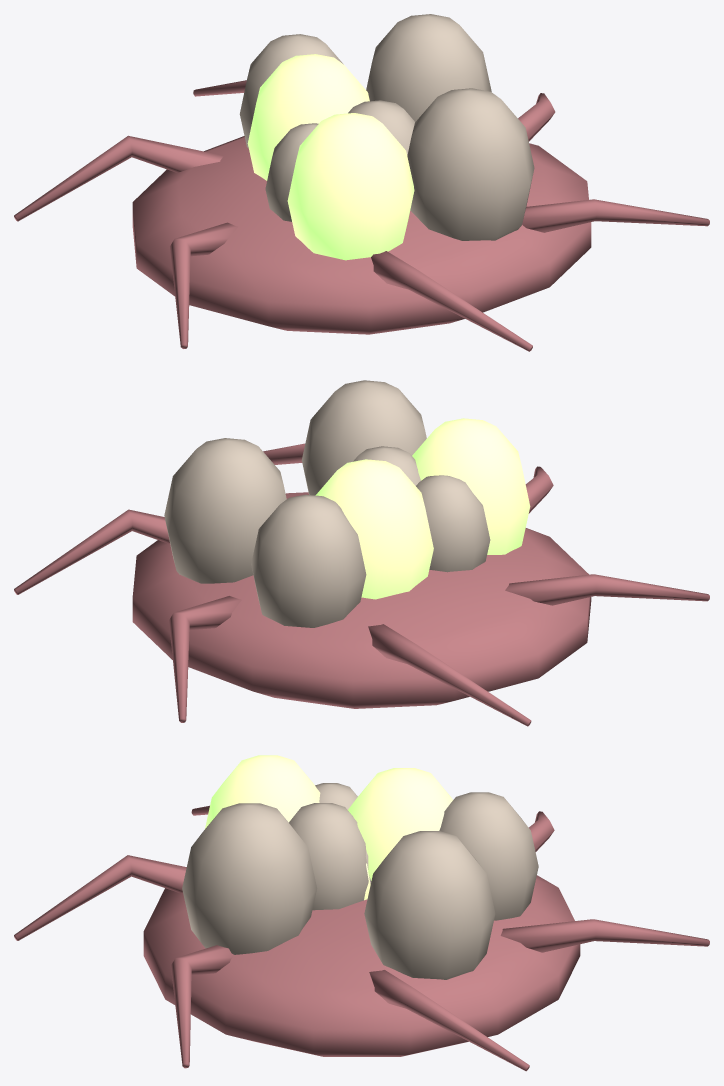
File: nest.glb
3 views of the same model, one above another, from view 1: azimuth 30°, elevation 25°; view 2: azimuth 150°, elevation 25°; view 3: azimuth 270°, elevation 25° (orthographic).
Parts seen in each view (by area): view 1: nest; view 2: nest; view 3: nest.
Boxes of the visible parts, x1,y1,x2,y2 form: nest: (14,14,709,351); nest: (14,380,709,726); nest: (14,755,709,1071).
Size of the model in its own units: 3.01 by 1.18 by 3.42.
